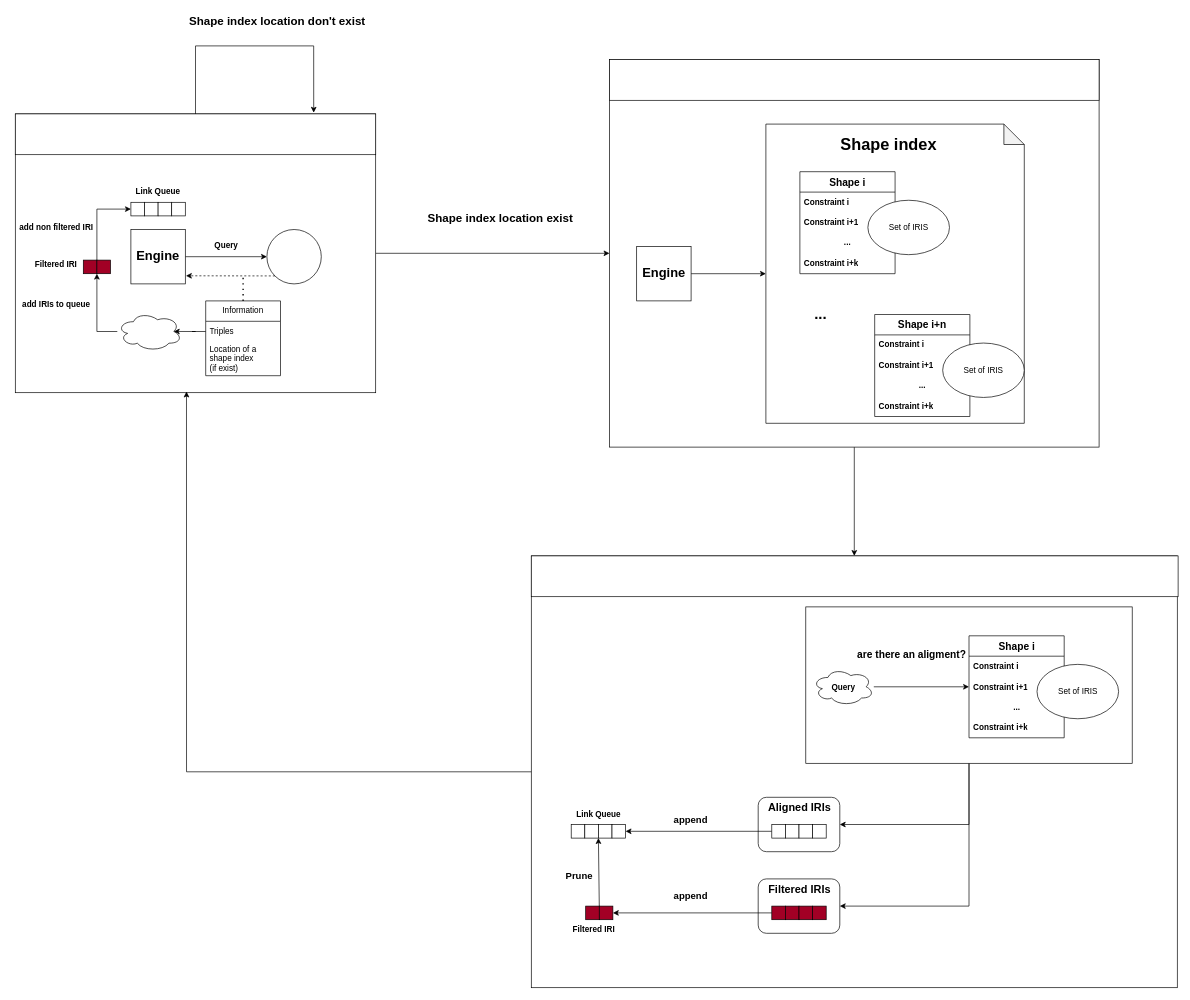
This 1190x1000 diagram has some shape labels left out. Here are the shapes that lost their labels. From the top down, the box of each, then its label:
(609, 59, 1099, 100): Dereference the shape index
(15, 113, 376, 155): Query the next document in the link queue
(266, 229, 321, 284): Document
(117, 311, 182, 351): Reachability criteria
(531, 555, 1178, 597): Evaluate the shape with the query
